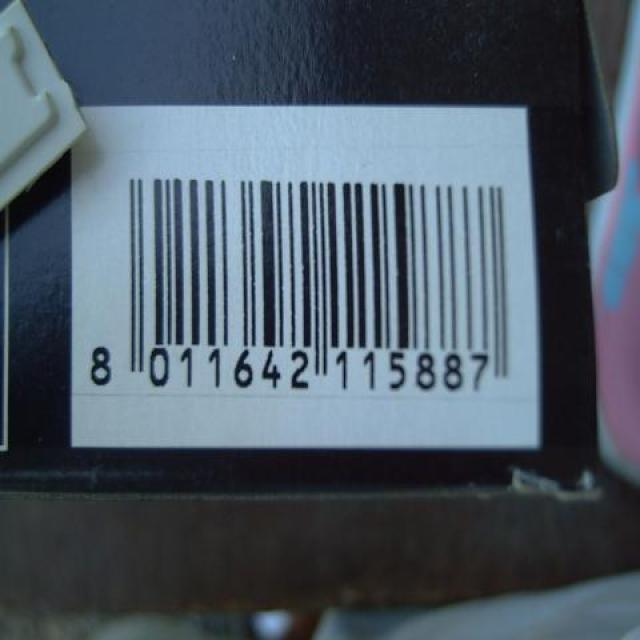Barcode: (70, 104, 542, 449)
